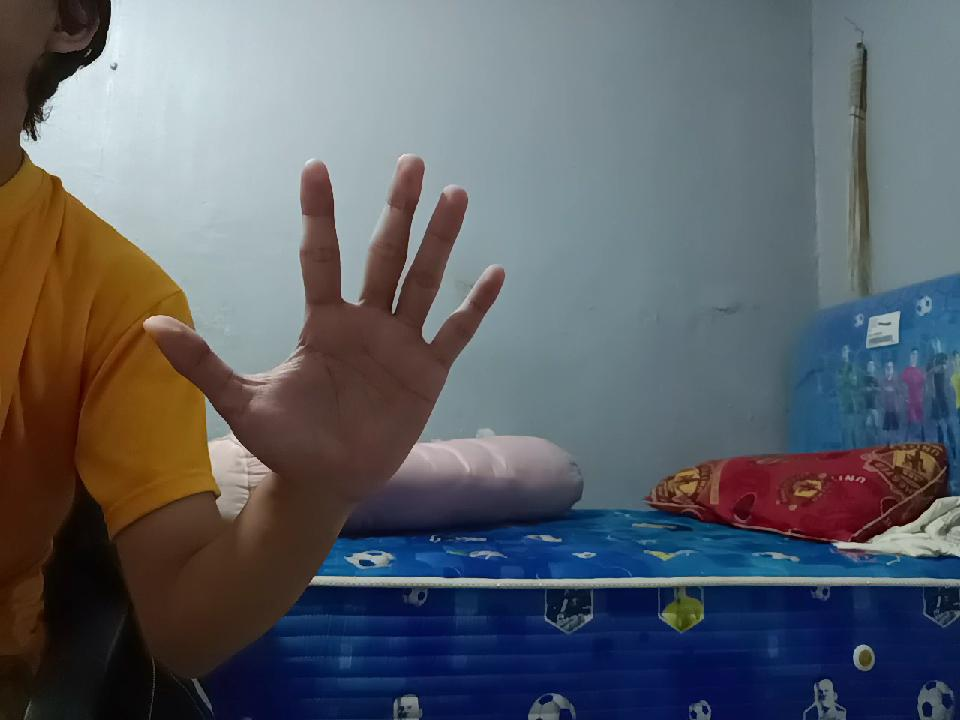paper: (167, 141, 510, 500)
